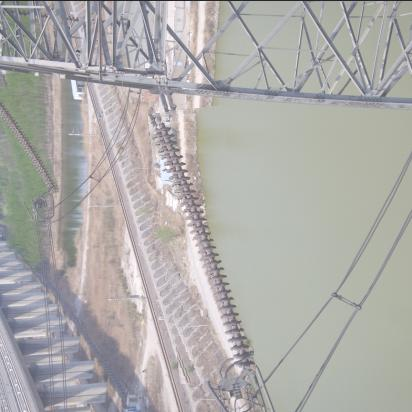insulator: (156, 107, 249, 382), (1, 83, 52, 202)
